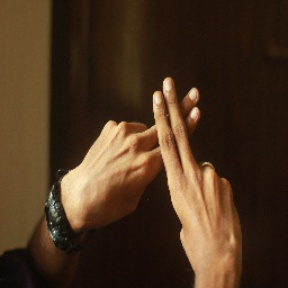F: (128, 71, 219, 189)
